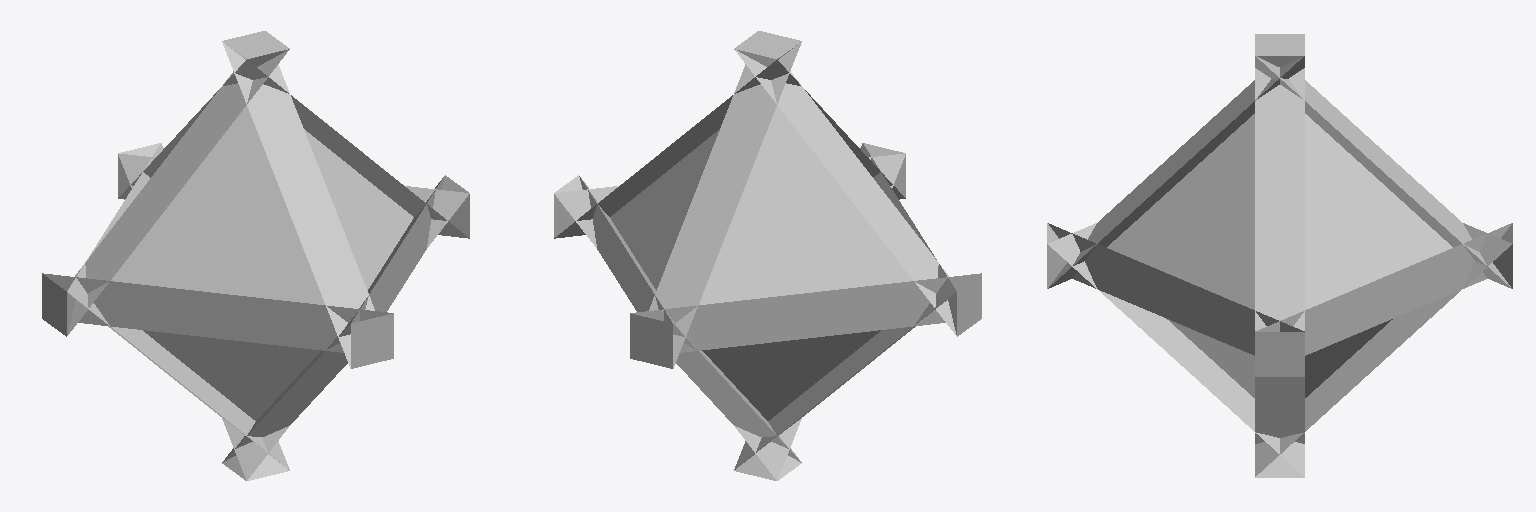
File: Cristal1.obj
3 views of the same model, side by side, from view 1: azimuth 30°, elevation 25°; view 2: azimuth 150°, elevation 25°; view 3: azimuth 270°, elevation 25° (orthographic).
Parts seen in each view (by area): view 1: Cube; view 2: Cube; view 3: Cube.
Part boxes in pixels (bbox=[...]): Cube: bbox=[42, 31, 469, 480]; Cube: bbox=[554, 31, 981, 480]; Cube: bbox=[1047, 34, 1512, 477].
Size of the model in its own units: 2 by 2 by 2.